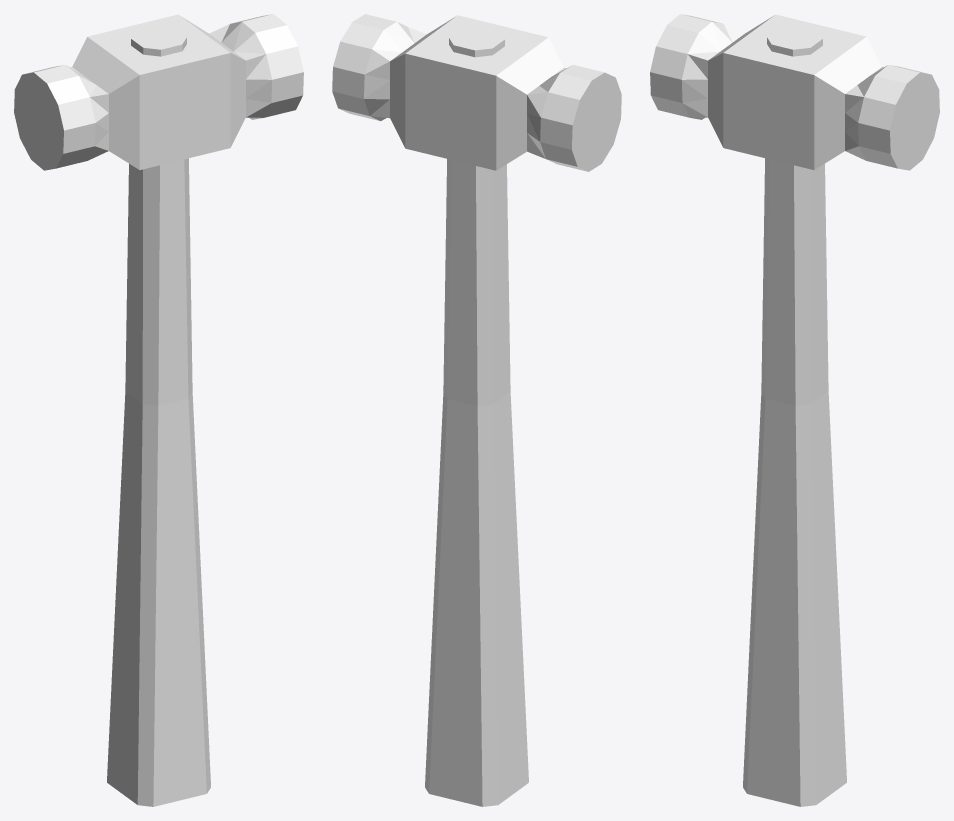
The model's file is Tool_Hammer_03.glb.
The picture shows the model from 3 angles, left to right: view 1: azimuth 30°, elevation 25°; view 2: azimuth 150°, elevation 25°; view 3: azimuth 330°, elevation 25°; orthographic projection.
Visible parts, largest first — view 1: Tool_Hammer_03; view 2: Tool_Hammer_03; view 3: Tool_Hammer_03.
Part boxes in pixels (x1,y1,x2,y2): Tool_Hammer_03: [14, 14, 303, 806]; Tool_Hammer_03: [332, 14, 621, 806]; Tool_Hammer_03: [650, 14, 939, 806].
Size of the model in its own units: 0.1053 by 0.3132 by 0.0399.
Materials: 1 (1 with a texture image).
